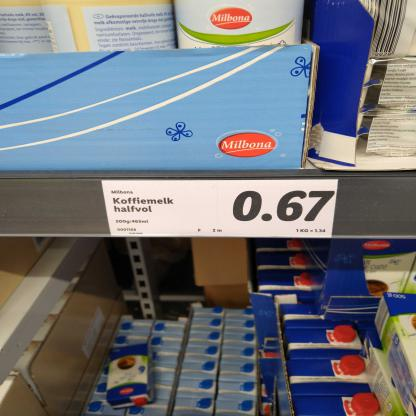prtg: (103, 180, 340, 239)
